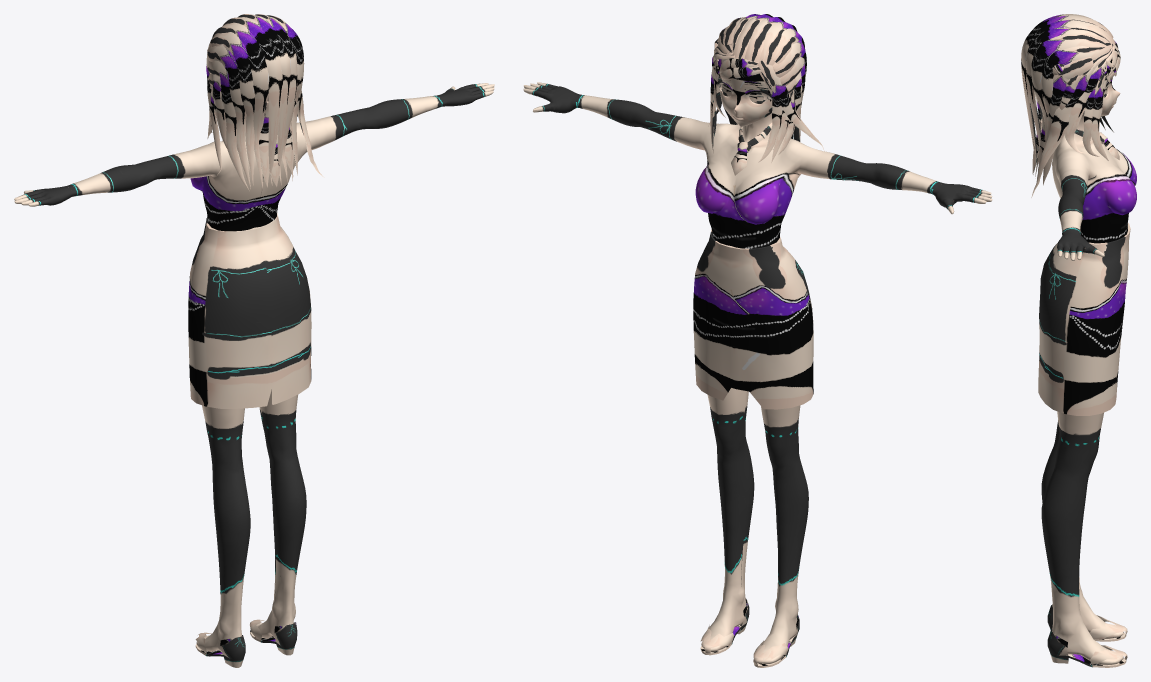
3 views of the same model, side by side, from view 1: azimuth 30°, elevation 25°; view 2: azimuth 150°, elevation 25°; view 3: azimuth 270°, elevation 25° (orthographic). The views are drawn at different scales.
Visible parts, largest first — view 1: Body, Hair; view 2: Body, Hair, Face; view 3: Body, Hair, Face.
Part boxes in pixels (x1,y1,x2,y2): Body: (14, 35, 494, 667); Hair: (206, 14, 324, 190); Body: (523, 82, 992, 667); Hair: (708, 14, 824, 162); Face: (717, 73, 802, 126); Body: (1038, 77, 1136, 667); Hair: (1021, 14, 1120, 197); Face: (1060, 58, 1120, 116).
Bounding box in the file's own units: 1.32 × 1.67 × 0.2778.
Materials: 15 (15 with a texture image).
